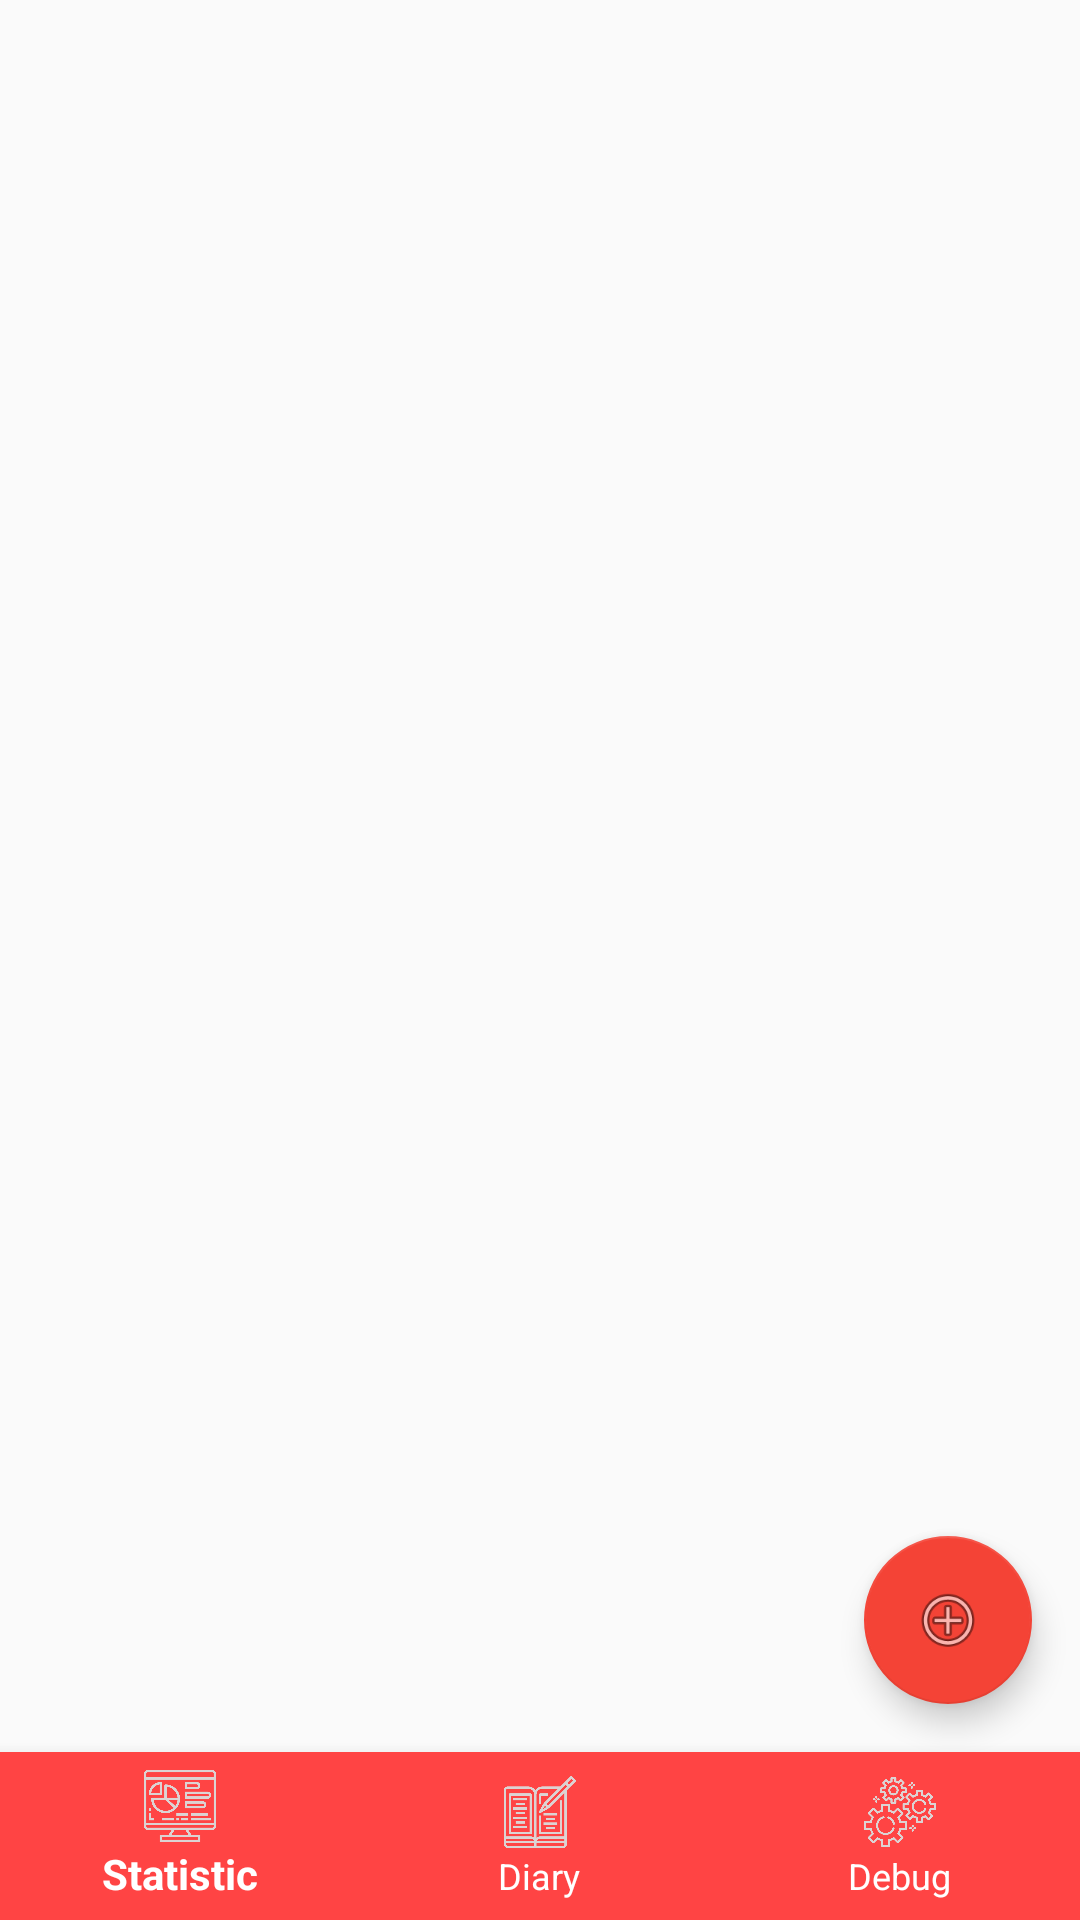

Named icons in this screenshot (1080px x 1920px) and their centers, [x,y]:
add: [948,1620]
